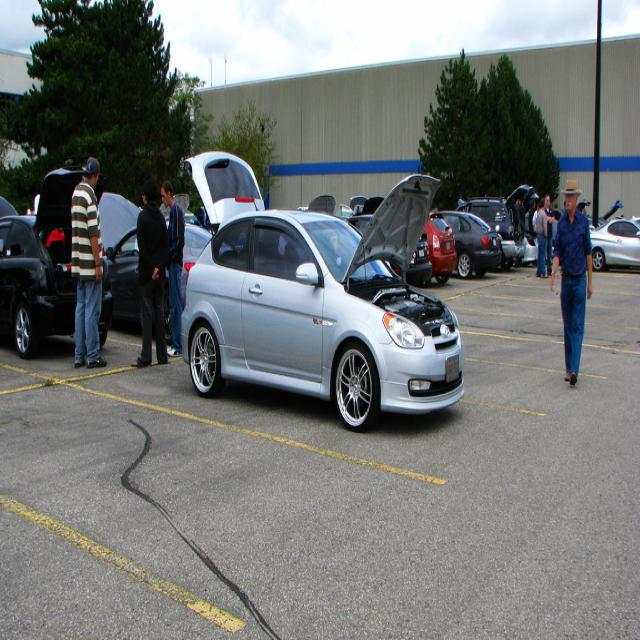car: (184, 149, 464, 435)
